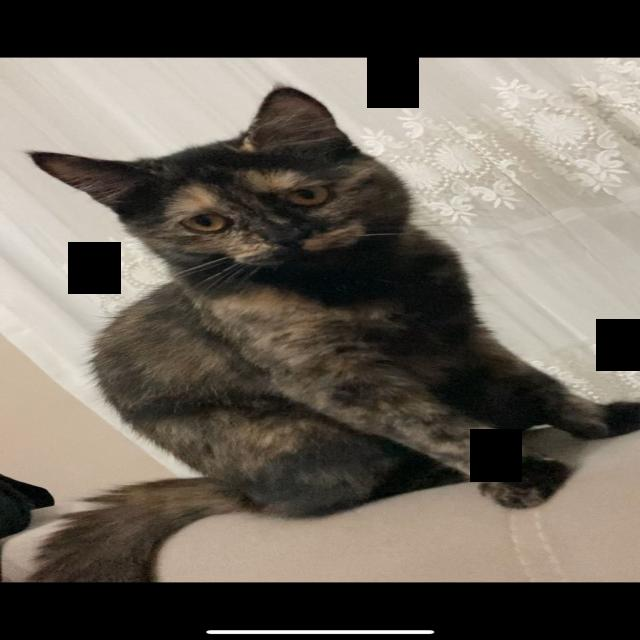authorized: (20, 84, 637, 582)
